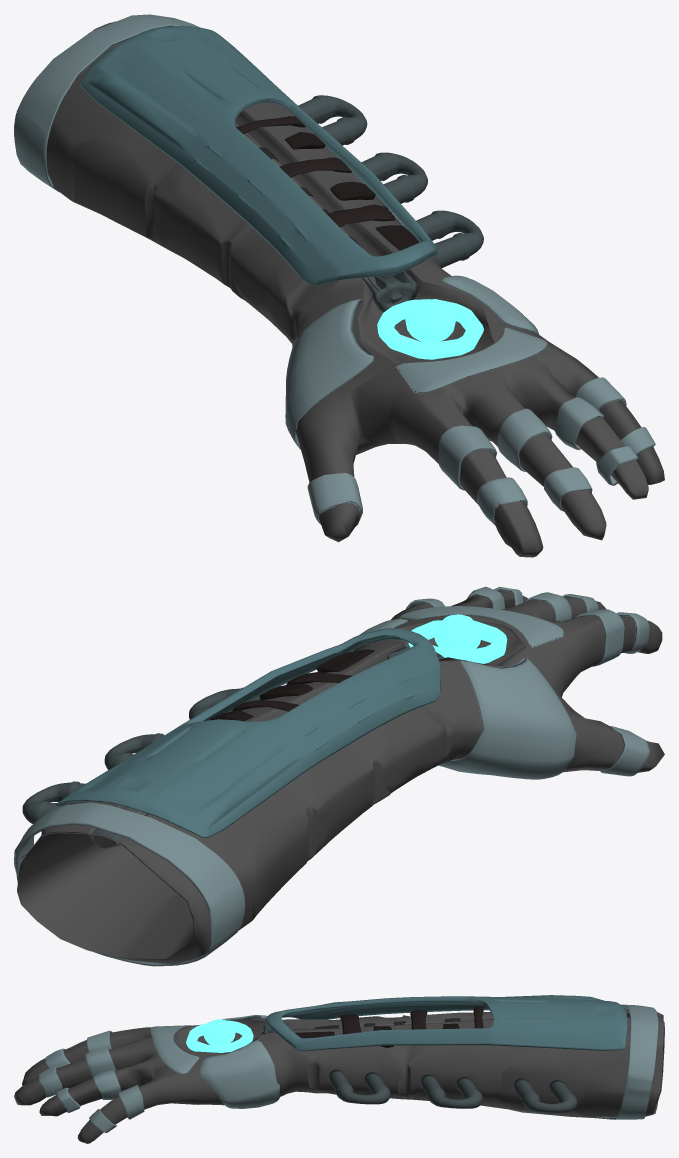
The model's file is HAND FBX LOW Poly.fbx.
The picture shows the model from 3 angles, top to bottom: view 1: azimuth 30°, elevation 25°; view 2: azimuth 150°, elevation 25°; view 3: azimuth 270°, elevation 25°; orthographic projection. The views are drawn at different scales.
Parts seen in each view (by area): view 1: hand_basemesh6, polySurface1, polySurface30, polySurface9, polySurface31, pTorus1, pCylinder10, pCylinder8, pCylinder9, polySurface26, pSphere1, polySurface25 (+9 smaller); view 2: hand_basemesh6, polySurface1, polySurface30, polySurface9, polySurface31, pTorus1, pSphere1, polySurface25, pCylinder8, polySurface26, pCylinder9, polySurface8 (+3 smaller); view 3: hand_basemesh6, polySurface1, polySurface30, polySurface9, pCylinder8, pCylinder10, polySurface31, pCylinder9, pTorus1, pSphere1, polySurface27, polySurface28 (+8 smaller).
Boxes of the visible parts, <box> form: hand_basemesh6: <box>46,22,664,557</box>; polySurface1: <box>80,25,437,285</box>; polySurface30: <box>285,275,538,449</box>; polySurface9: <box>14,14,199,192</box>; polySurface31: <box>396,327,547,393</box>; pTorus1: <box>377,299,483,359</box>; pCylinder10: <box>404,210,483,267</box>; pCylinder8: <box>298,95,367,145</box>; pCylinder9: <box>361,152,427,207</box>; polySurface26: <box>438,425,496,490</box>; pSphere1: <box>405,299,455,342</box>; polySurface25: <box>307,473,362,526</box>; hand_basemesh6: <box>17,590,664,964</box>; polySurface1: <box>55,628,440,838</box>; polySurface30: <box>351,618,576,779</box>; polySurface9: <box>14,802,245,966</box>; polySurface31: <box>400,606,564,647</box>; pTorus1: <box>408,620,507,663</box>; pSphere1: <box>434,614,482,649</box>; polySurface25: <box>600,726,649,776</box>; pCylinder8: <box>22,781,85,823</box>; polySurface26: <box>574,609,624,666</box>; pCylinder9: <box>104,733,164,769</box>; polySurface8: <box>316,649,374,672</box>; hand_basemesh6: <box>14,1008,664,1143</box>; polySurface1: <box>266,995,627,1051</box>; polySurface30: <box>200,1015,279,1108</box>; polySurface9: <box>510,1004,658,1119</box>; pCylinder8: <box>513,1078,577,1112</box>; pCylinder10: <box>328,1069,390,1104</box>; polySurface31: <box>150,1025,199,1074</box>; pCylinder9: <box>420,1074,482,1108</box>; pTorus1: <box>186,1020,253,1052</box>; pSphere1: <box>203,1019,235,1044</box>; polySurface27: <box>84,1047,115,1077</box>; polySurface28: <box>93,1069,120,1099</box>.
Bounding box in the file's own units: 5.6 × 3.15 × 14.28.
